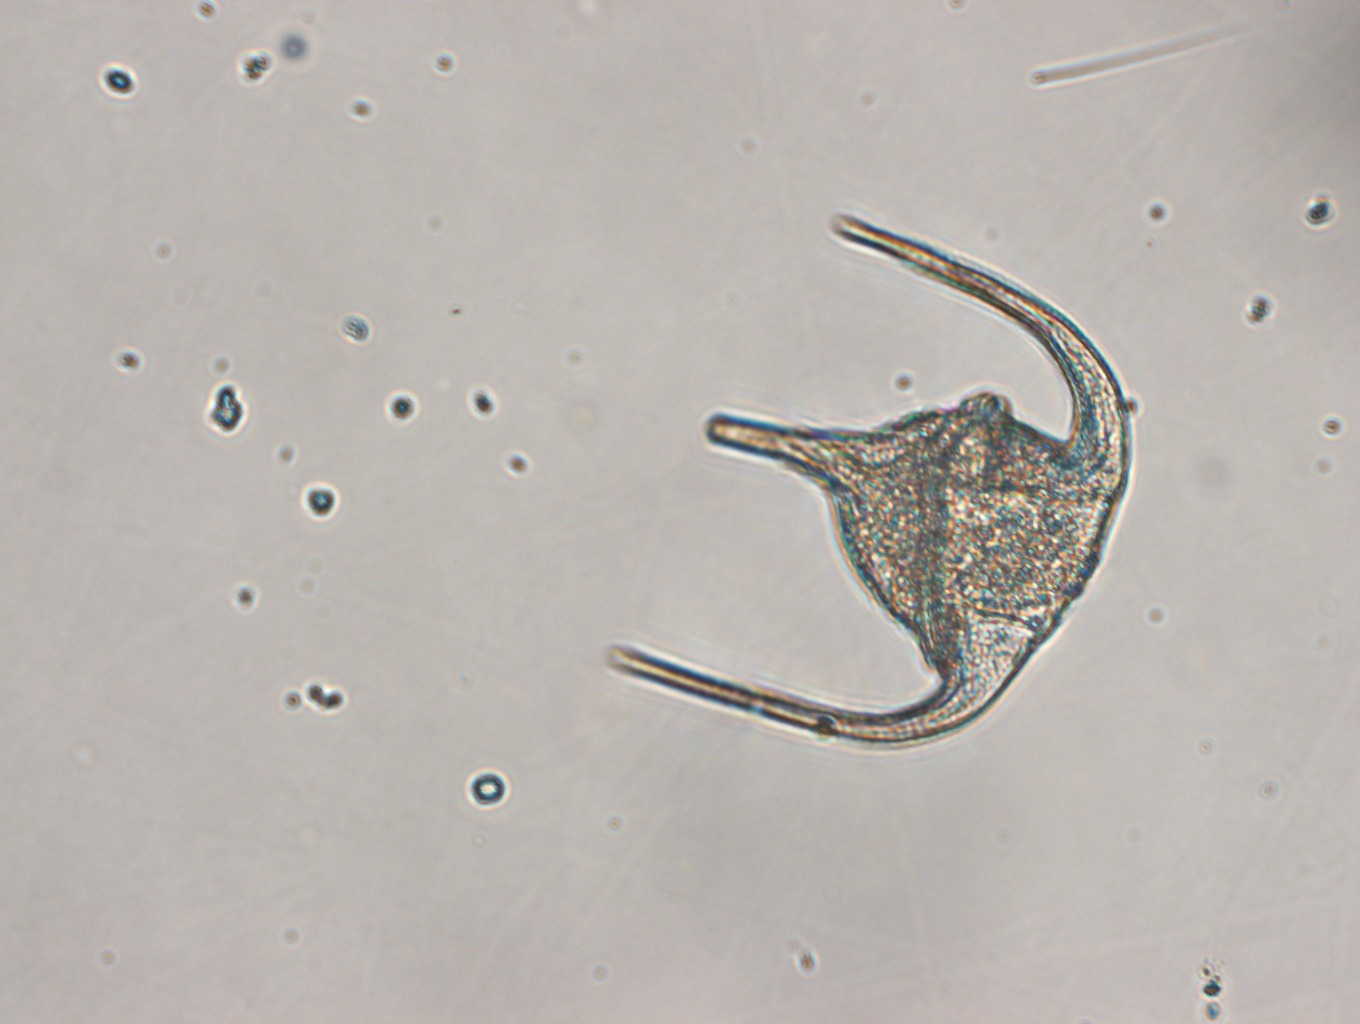ceratium tripos: (600, 215, 1139, 765)
